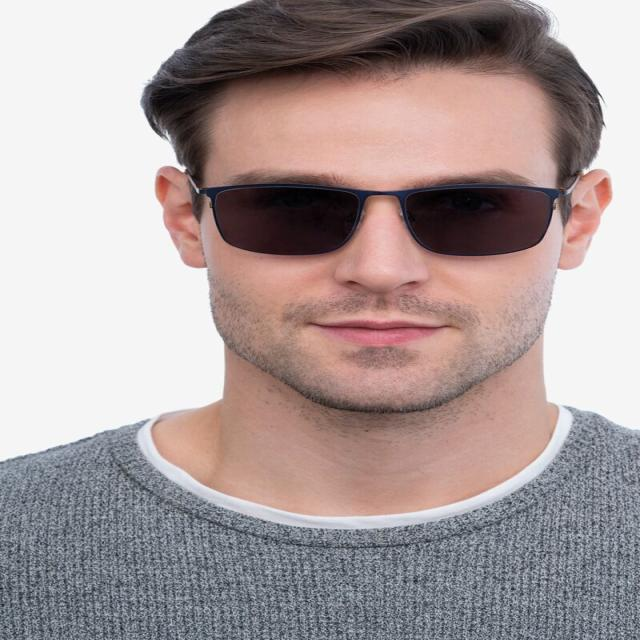2_gafas: (183, 169, 582, 258)
